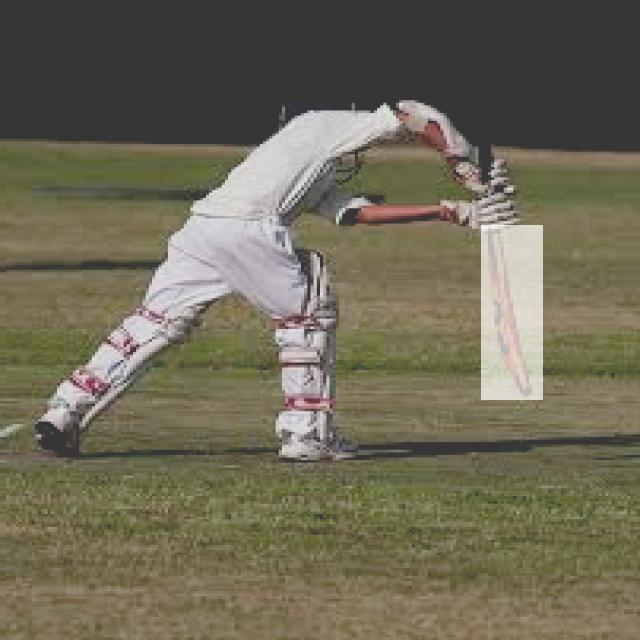bat: (480, 223, 545, 401)
toe: (505, 378, 542, 400)
